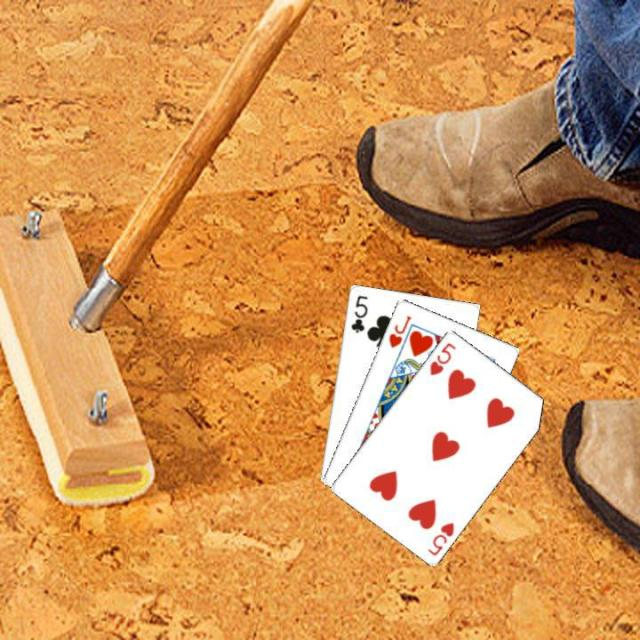5C: (347, 291, 369, 334)
5H: (424, 518, 456, 558), (426, 338, 458, 377)
JH: (385, 311, 413, 349)
